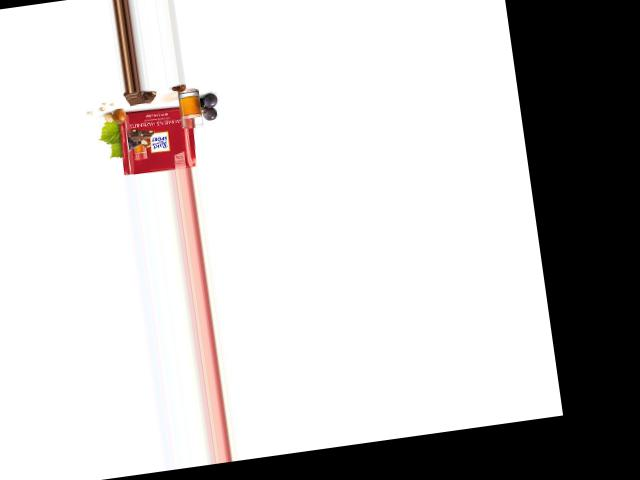chocolate: (113, 104, 196, 175)
